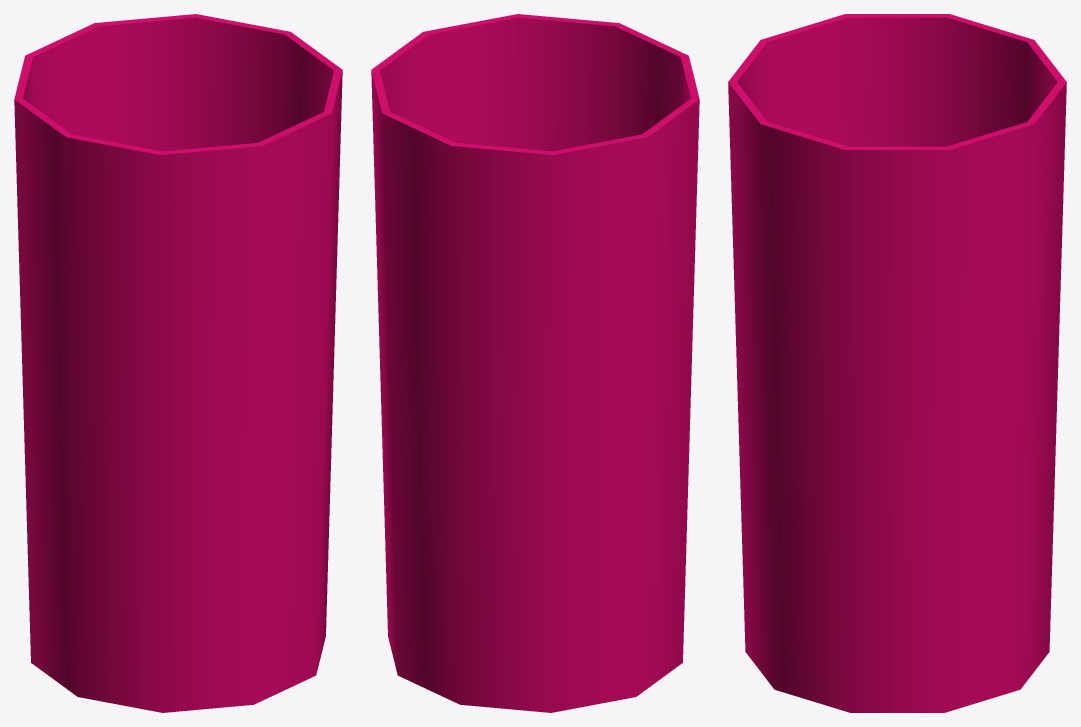
The model's file is Tumbler_02_Lod1.fbx.
The picture shows the model from 3 angles, left to right: view 1: azimuth 30°, elevation 25°; view 2: azimuth 150°, elevation 25°; view 3: azimuth 270°, elevation 25°; orthographic projection.
Parts seen in each view (by area): view 1: Tumbler_02_Lod1; view 2: Tumbler_02_Lod1; view 3: Tumbler_02_Lod1.
Boxes of the visible parts, left/top/right/bottom form: Tumbler_02_Lod1: left=14, top=14, right=342, bottom=712; Tumbler_02_Lod1: left=371, top=14, right=699, bottom=712; Tumbler_02_Lod1: left=728, top=14, right=1066, bottom=712.
Size of the model in its own units: 7.56 by 14.76 by 7.95.
